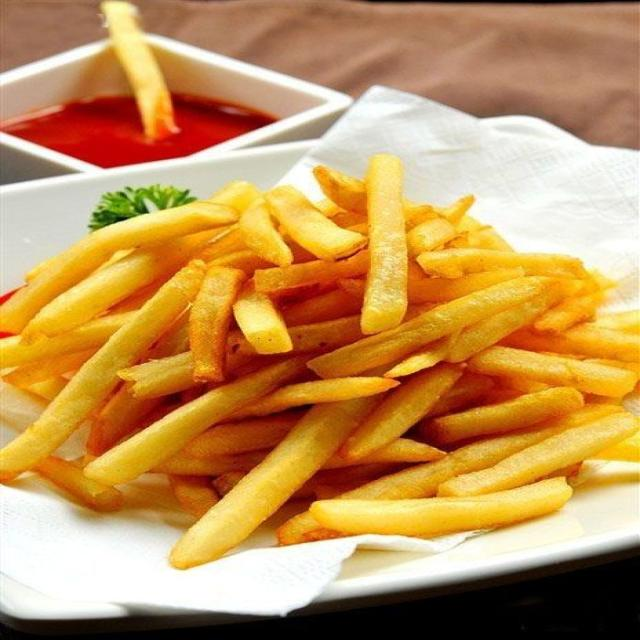potato fries: (0, 155, 639, 568), (0, 262, 204, 479), (172, 399, 372, 568), (0, 202, 237, 332), (86, 359, 304, 485), (338, 406, 622, 500), (309, 278, 547, 377), (439, 413, 638, 495), (311, 478, 572, 536), (24, 248, 173, 336), (341, 364, 462, 459), (101, 0, 179, 139), (429, 387, 583, 444), (469, 347, 637, 397), (446, 288, 557, 362), (362, 155, 408, 333), (0, 312, 137, 368), (265, 186, 366, 260), (231, 377, 398, 419), (189, 267, 245, 381), (183, 413, 300, 458), (503, 324, 639, 362), (417, 249, 586, 277), (254, 251, 369, 292), (35, 457, 122, 511), (409, 268, 525, 303), (234, 286, 292, 353), (239, 199, 293, 266), (3, 350, 96, 387), (385, 334, 457, 377), (282, 289, 361, 327), (429, 373, 495, 416), (534, 292, 602, 333), (314, 166, 366, 213), (170, 476, 219, 518), (407, 219, 457, 254), (210, 181, 262, 213), (592, 431, 639, 462), (595, 310, 639, 333)
